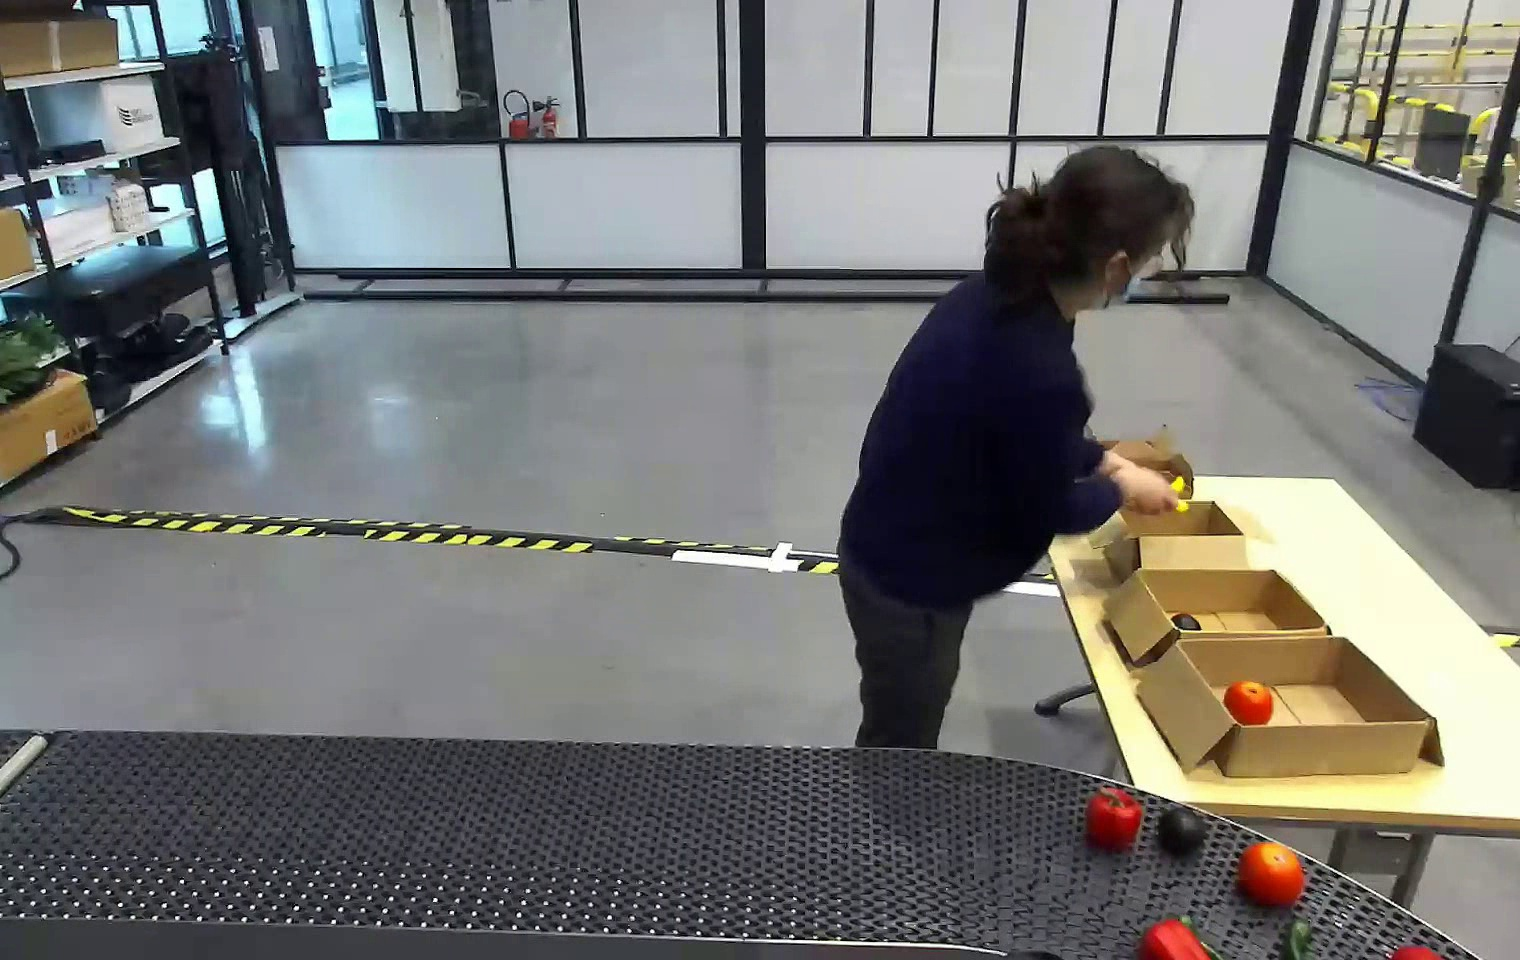Main droite: (983, 732, 1084, 838)
